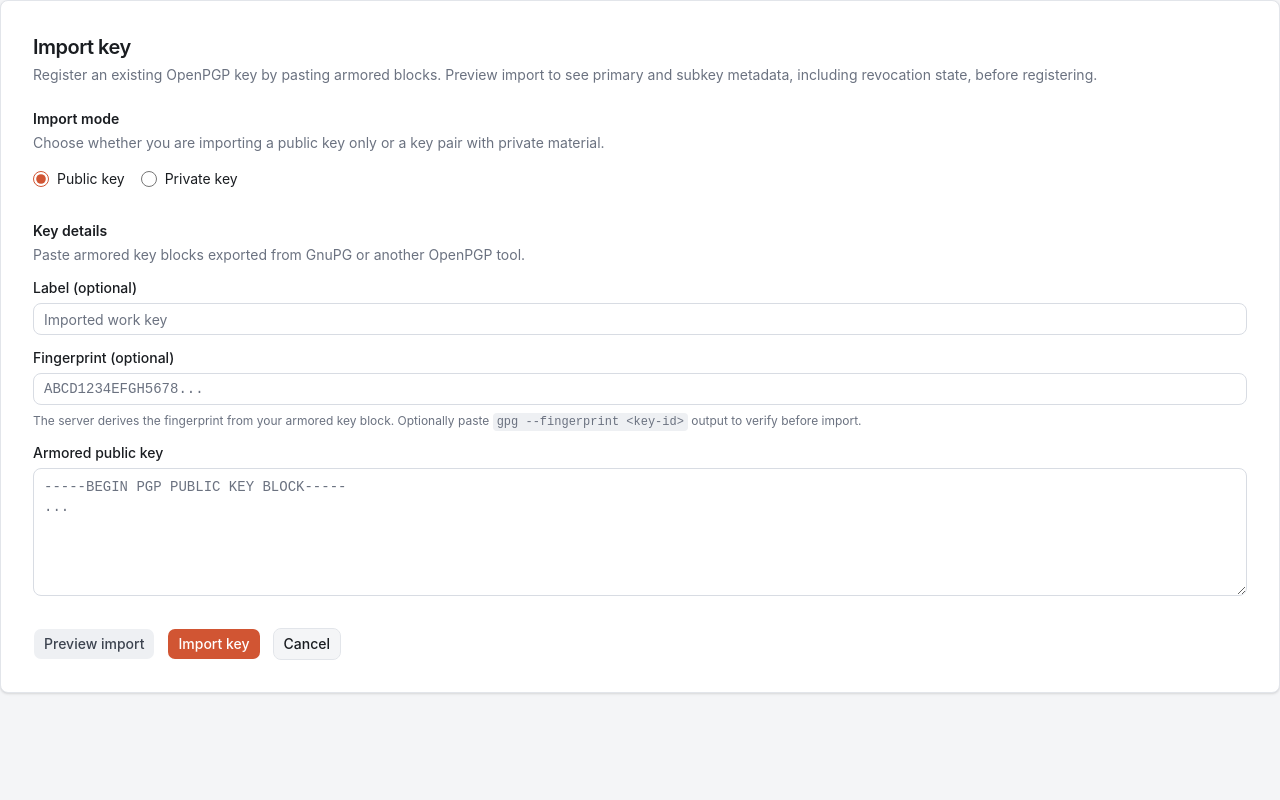
Test: ImportKeyPage › clears preview when armored public key changes after preview
Step 1. Type "-----BEGIN PGP PUBLIC KEY BLOCK----- Version: Test mQENBGexample -----END PGP PUBLIC KEY BLOCK-----" into the text box labelled "Armored public key" → (640, 532), box [33, 468, 1247, 596]
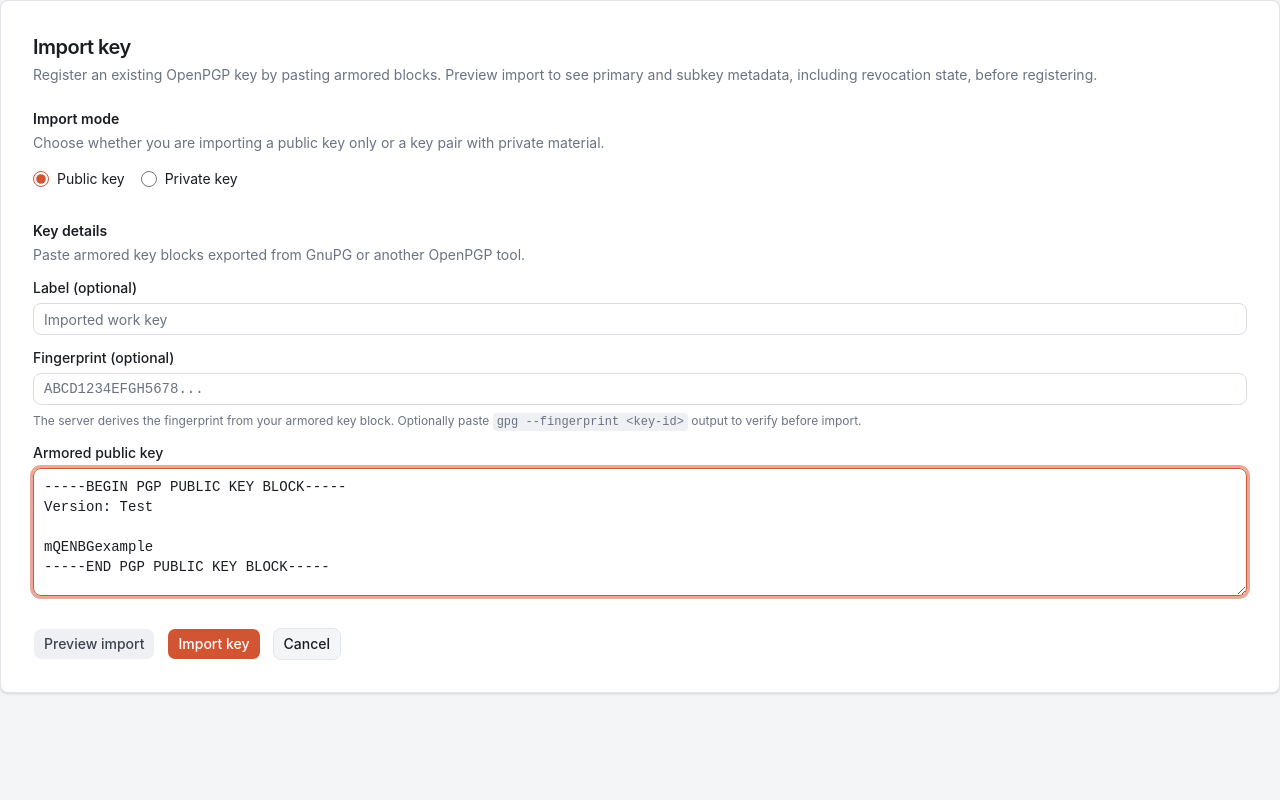
Step 2. Click the button "Preview import" → click(94, 644), box [33, 628, 156, 660]
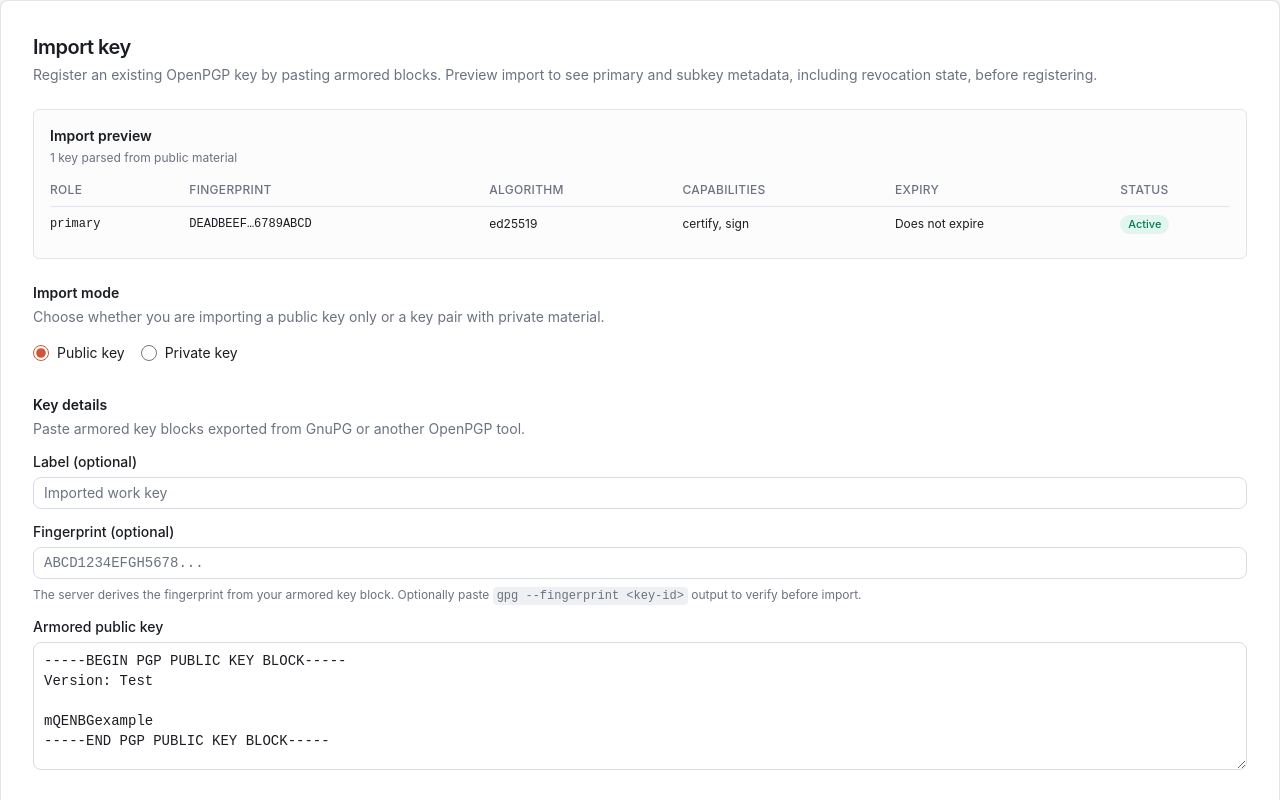
Expected: the element "Import preview" is shown, [33, 109, 1247, 259]
Step 3. Type "x" into the text box labelled "Armored public key" → (640, 706), box [33, 642, 1247, 770]
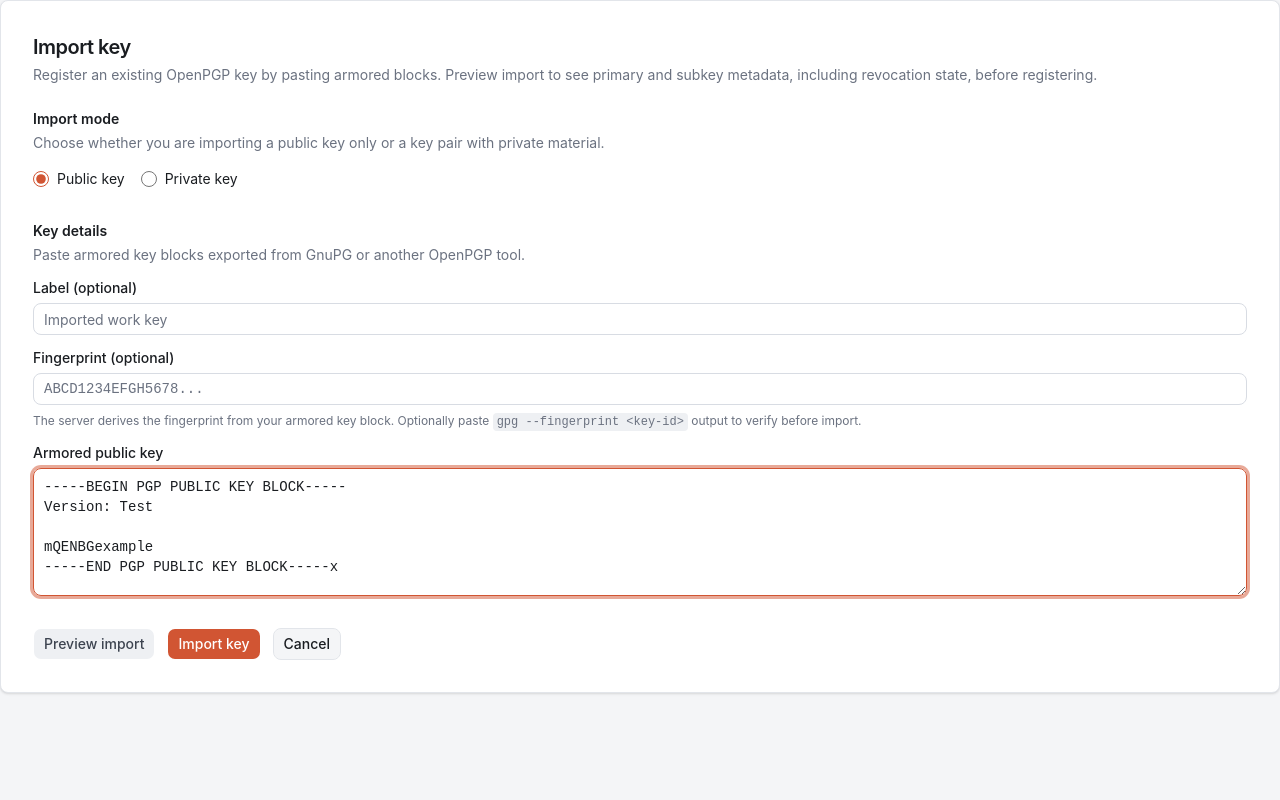
Expected: the heading "Import preview" is gone
